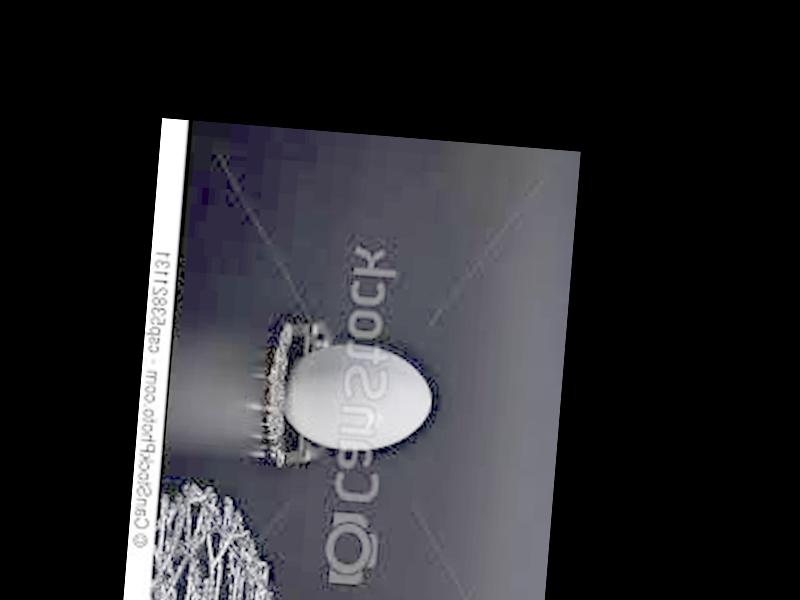Eggs: (280, 339, 434, 457)
